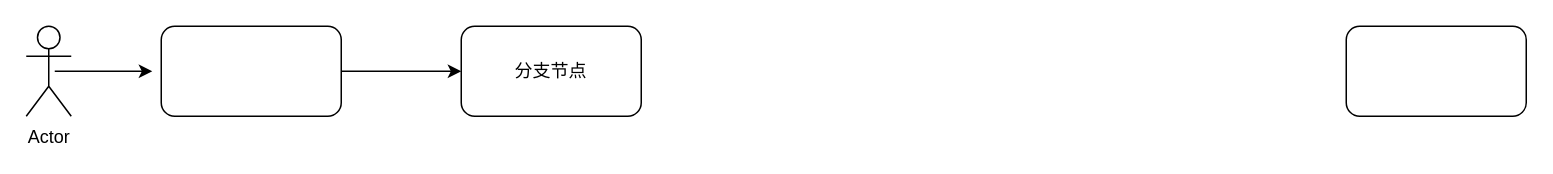
Some shapes in this 1553 by 174 pixel diagram are drawn without their labels. Here are the shapes that lost their labels. From the top down, the centre of each, then its label:
At pixel 250 70: "开始节点".
At pixel 1435 70: "结束节点".
